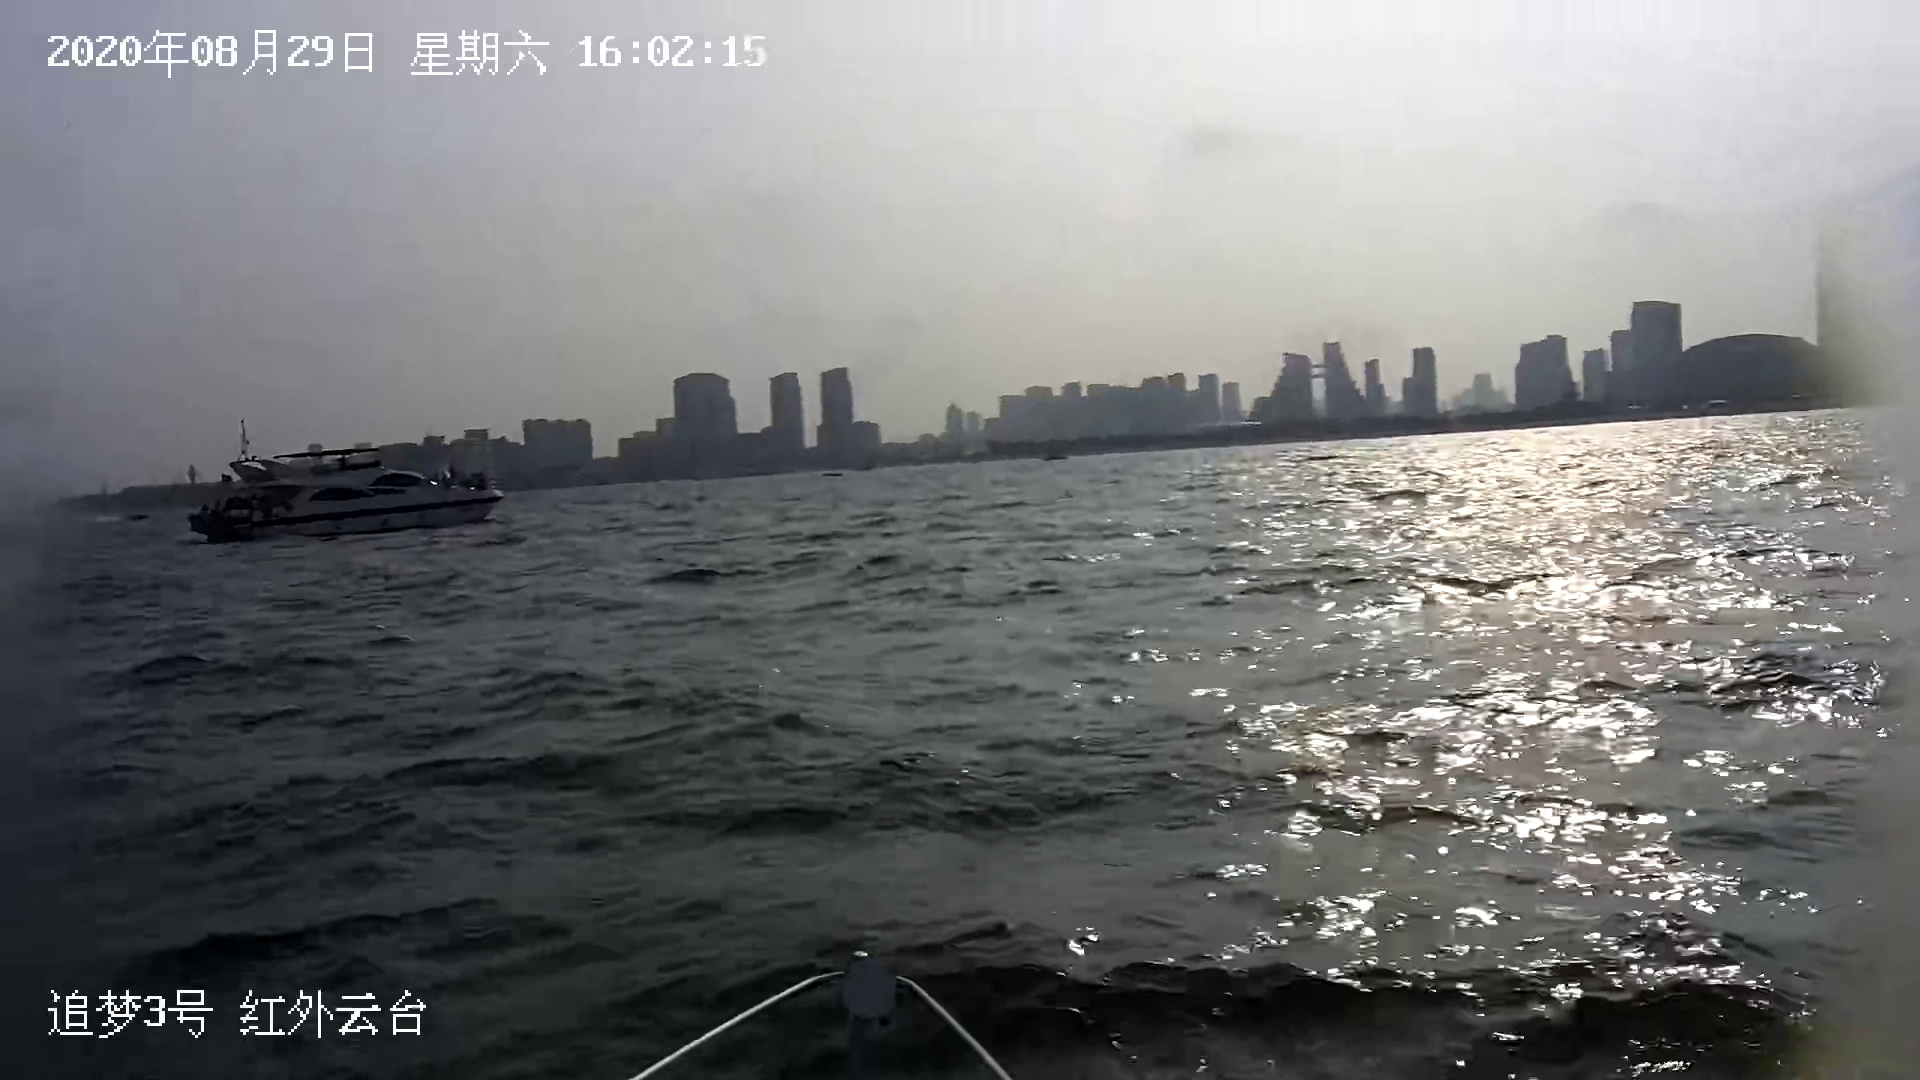barrier: (187, 444, 505, 530)
coast: (74, 293, 1920, 516)
